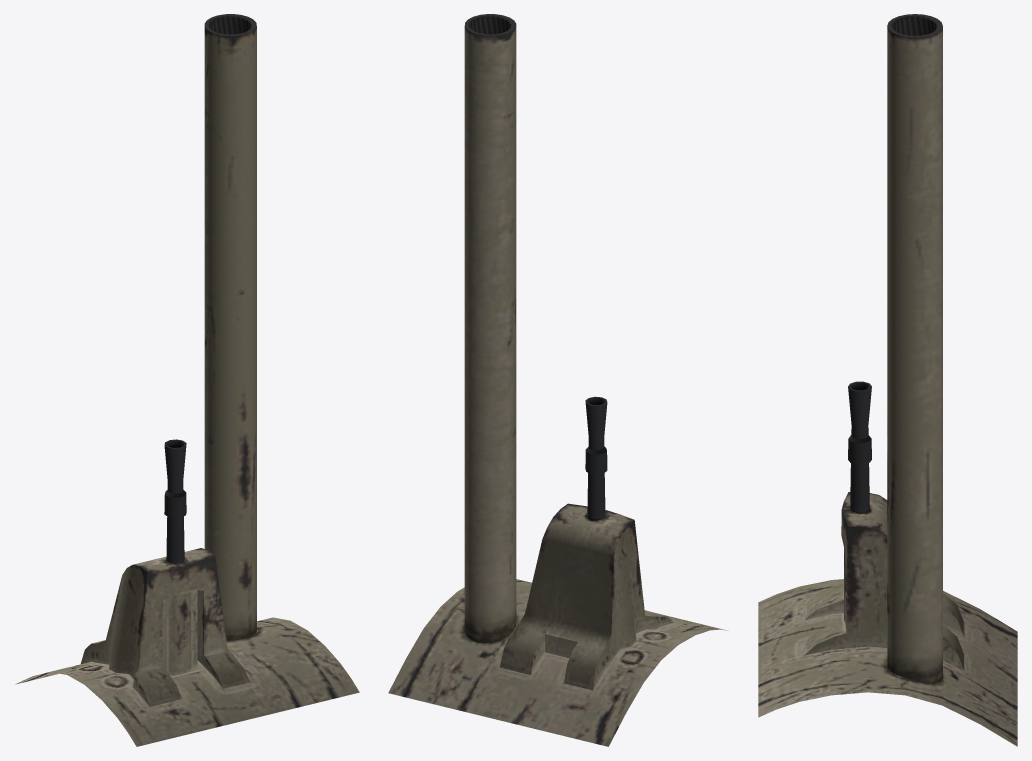
The model's file is Gun_04.glb.
3 views of the same model, side by side, from view 1: azimuth 30°, elevation 25°; view 2: azimuth 150°, elevation 25°; view 3: azimuth 270°, elevation 25° (orthographic). The views are drawn at different scales.
Parts seen in each view (by area): view 1: set_0_group_0; view 2: set_0_group_0; view 3: set_0_group_0.
Part boxes in pixels (bbox=[...]): set_0_group_0: bbox=[15, 14, 359, 746]; set_0_group_0: bbox=[388, 14, 728, 746]; set_0_group_0: bbox=[758, 14, 1017, 746].
Bounding box in the file's own units: 0.469 × 1.31 × 0.4462.
1 material, 1 textured.
